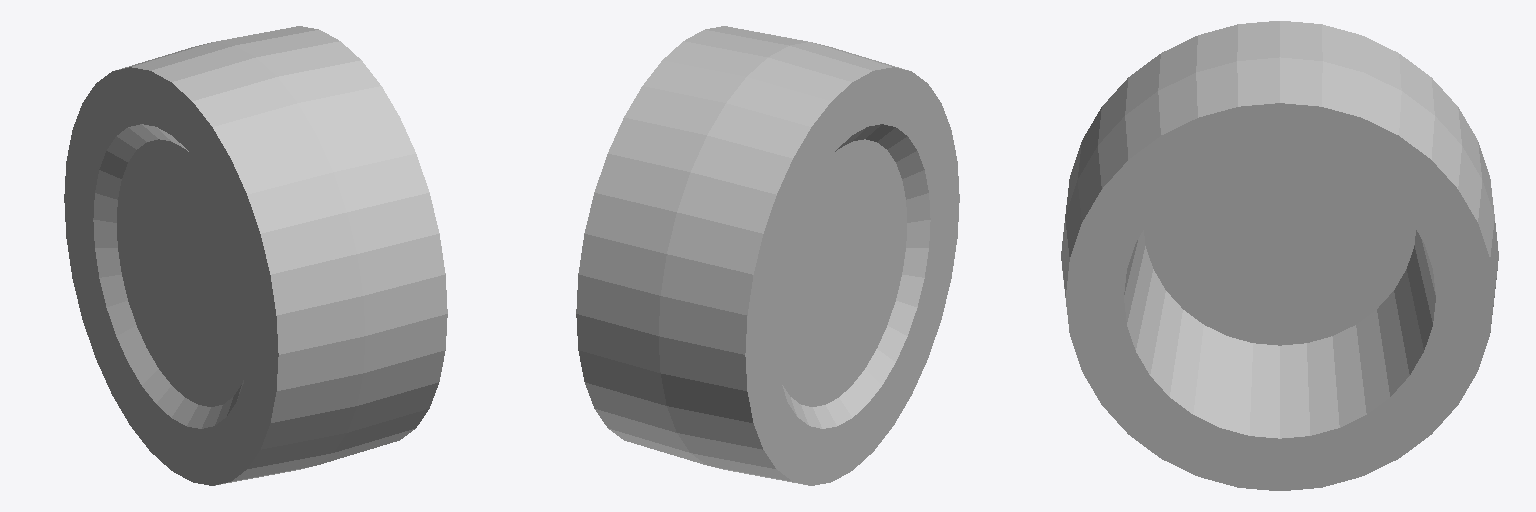
Rendered from car_tires_front_right.obj.
The picture shows the model from 3 angles: view 1: azimuth 30°, elevation 25°; view 2: azimuth 150°, elevation 25°; view 3: azimuth 270°, elevation 25°; orthographic projection.
Size of the model in its own units: 0.2945 by 0.6606 by 0.6606.